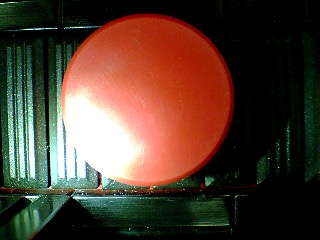BLANK: (61, 13, 235, 187)
